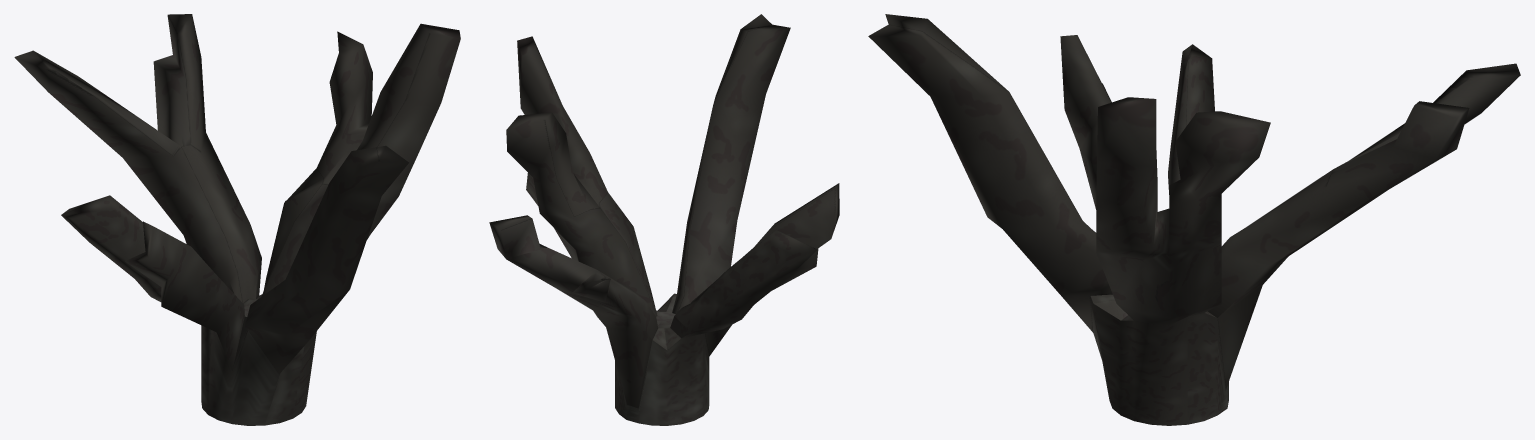
Rendered from TreeTop.fbx.
The picture shows the model from 3 angles, left to right: view 1: azimuth 30°, elevation 25°; view 2: azimuth 150°, elevation 25°; view 3: azimuth 270°, elevation 25°; orthographic projection. The views are drawn at different scales.
Visible parts, largest first — view 1: TreeTop; view 2: TreeTop; view 3: TreeTop.
Boxes of the visible parts, box(x1,y1,x2,y2) form: TreeTop: box(14, 14, 460, 425); TreeTop: box(489, 14, 839, 425); TreeTop: box(868, 14, 1520, 425).
Size of the model in its own units: 24.07 by 21.67 by 32.8.
Materials: 1 (1 with a texture image).
